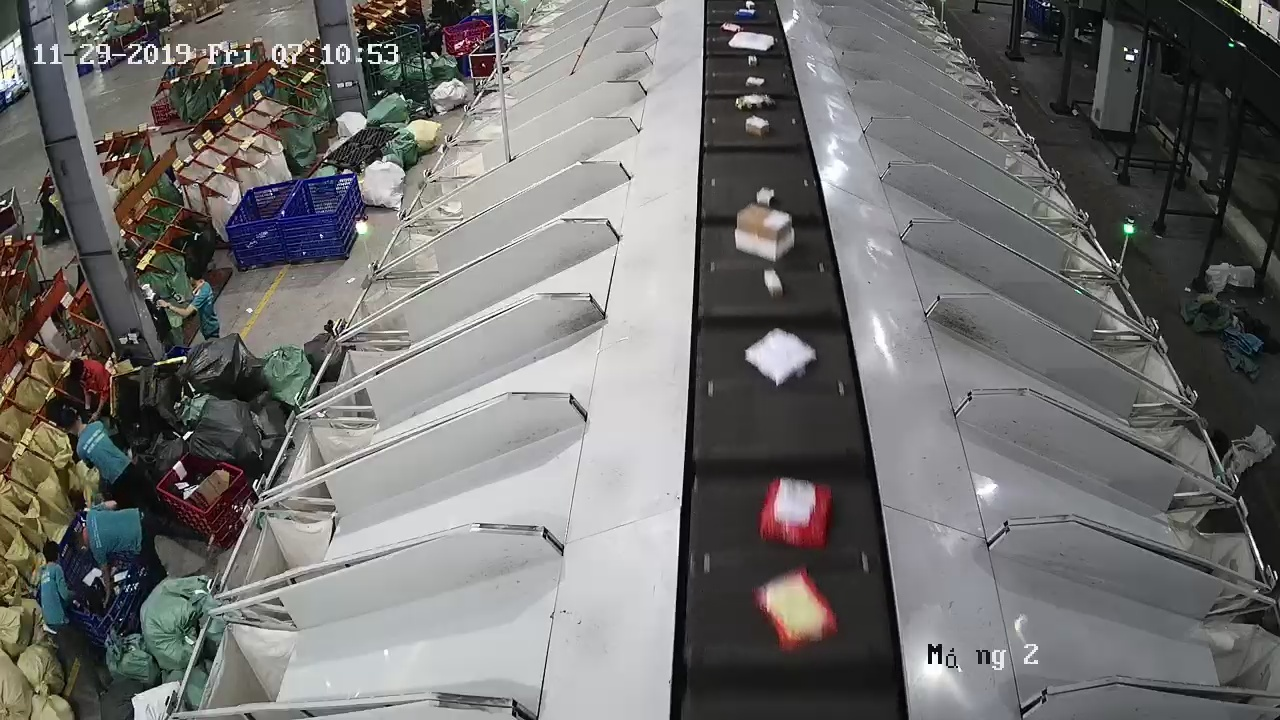parcel: (753, 565, 838, 652), (758, 476, 833, 551), (745, 327, 817, 387), (763, 265, 784, 298)
